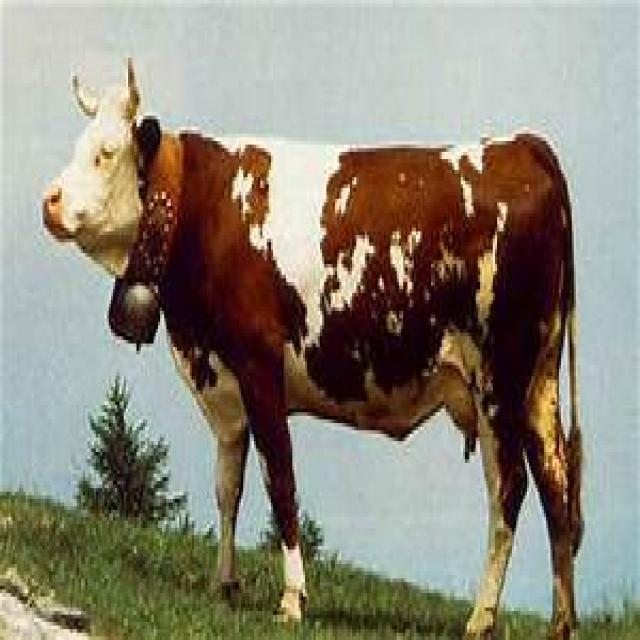cow: (41, 61, 587, 640)
